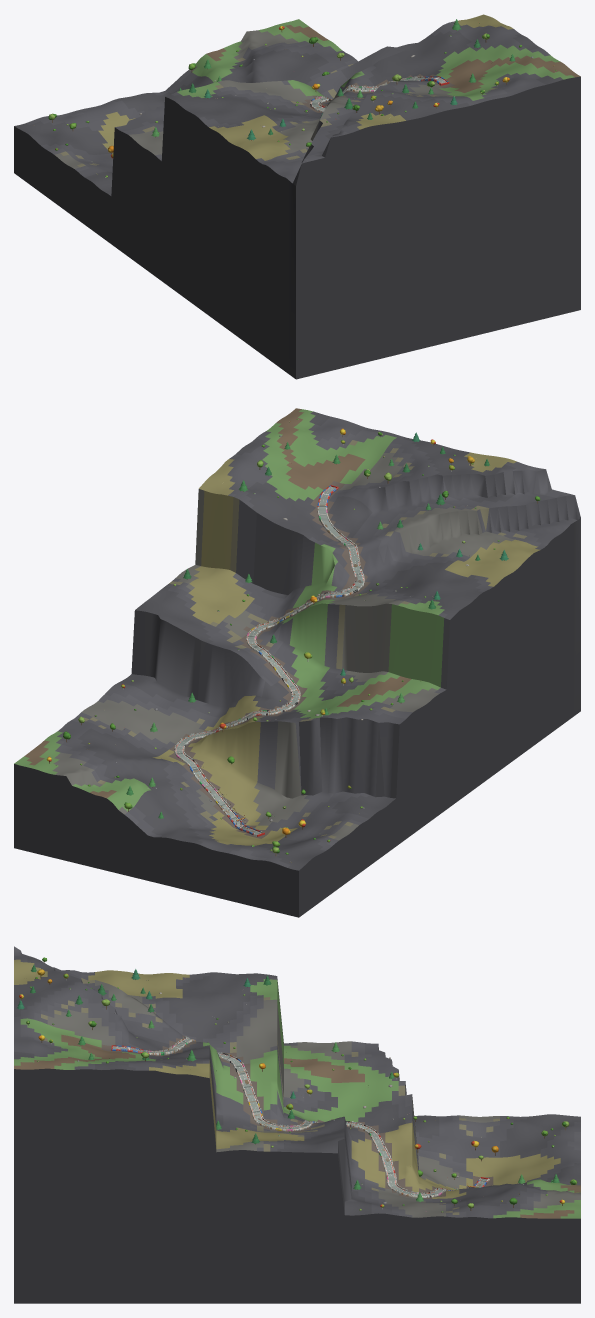
3 views of the same model, one above another, from view 1: azimuth 30°, elevation 25°; view 2: azimuth 150°, elevation 25°; view 3: azimuth 270°, elevation 25° (orthographic).
Visible parts, largest first — view 1: grass, pines, leafy trees, hay; view 2: grass, road, hay, pines, leafy trees; view 3: grass, hay, road, pines, leafy trees.
Part boxes in pixels (x1,y1,x2,y2): grass: (14,14,580,379); pines: (151,19,515,140); leafy trees: (48,33,499,146); hay: (309,76,449,112); grass: (14,408,580,917); road: (175,486,363,834); hay: (174,485,364,836); pines: (126,432,508,818); leafy trees: (63,432,540,853); grass: (14,946,580,1303); hay: (111,1036,489,1197); road: (112,1038,487,1195); pines: (17,965,559,1201); leafy trees: (26,957,577,1208).
Bounding box in the file's own units: 245 × 199 × 420.
